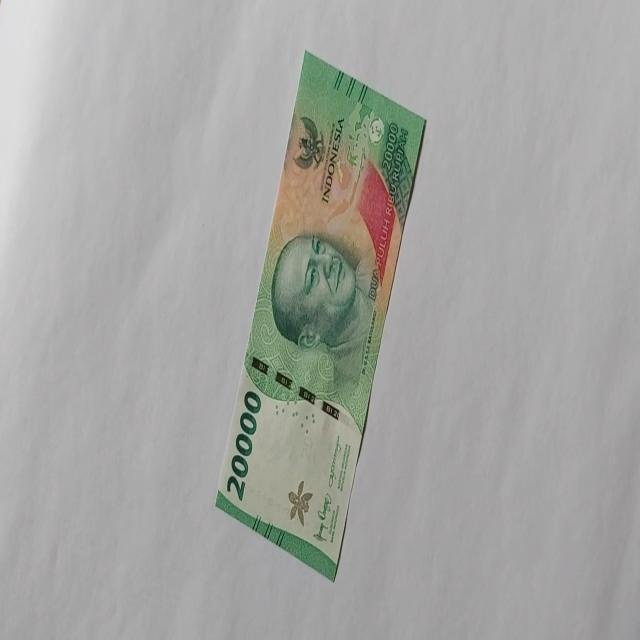dua puluh ribu rupiah: (213, 48, 427, 582), (269, 226, 376, 384)
